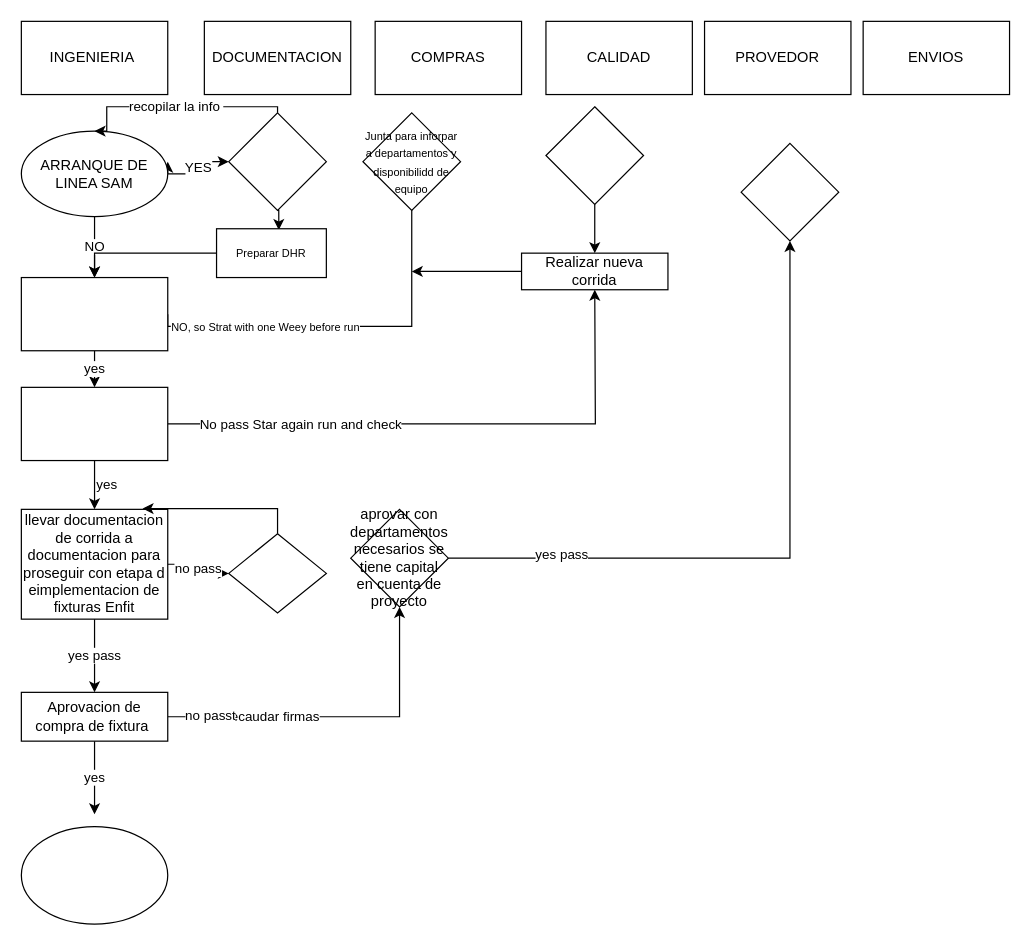
The diagram is 1031 pixels wide and 946 high, and some of its shapes have lost their labels. Here are the shapes that lost their labels. From the top down, the box of each, then its label:
(228, 112, 326, 210): CONFIRMAR DOCUMENTACION
(545, 106, 644, 204): Run results. pass / no pass
(740, 142, 839, 241): programar junta y finalizar ajuste de fixturas
(20, 276, 168, 351): Arranque validacion new conector VS tube stndr.
(20, 386, 168, 461): Finalization de AQ OQ PQ
(228, 533, 326, 613): no pass Realizar cambios
(20, 825, 168, 924): comenzar con Validacion de OUT PUT. Fixturas Enfit.
